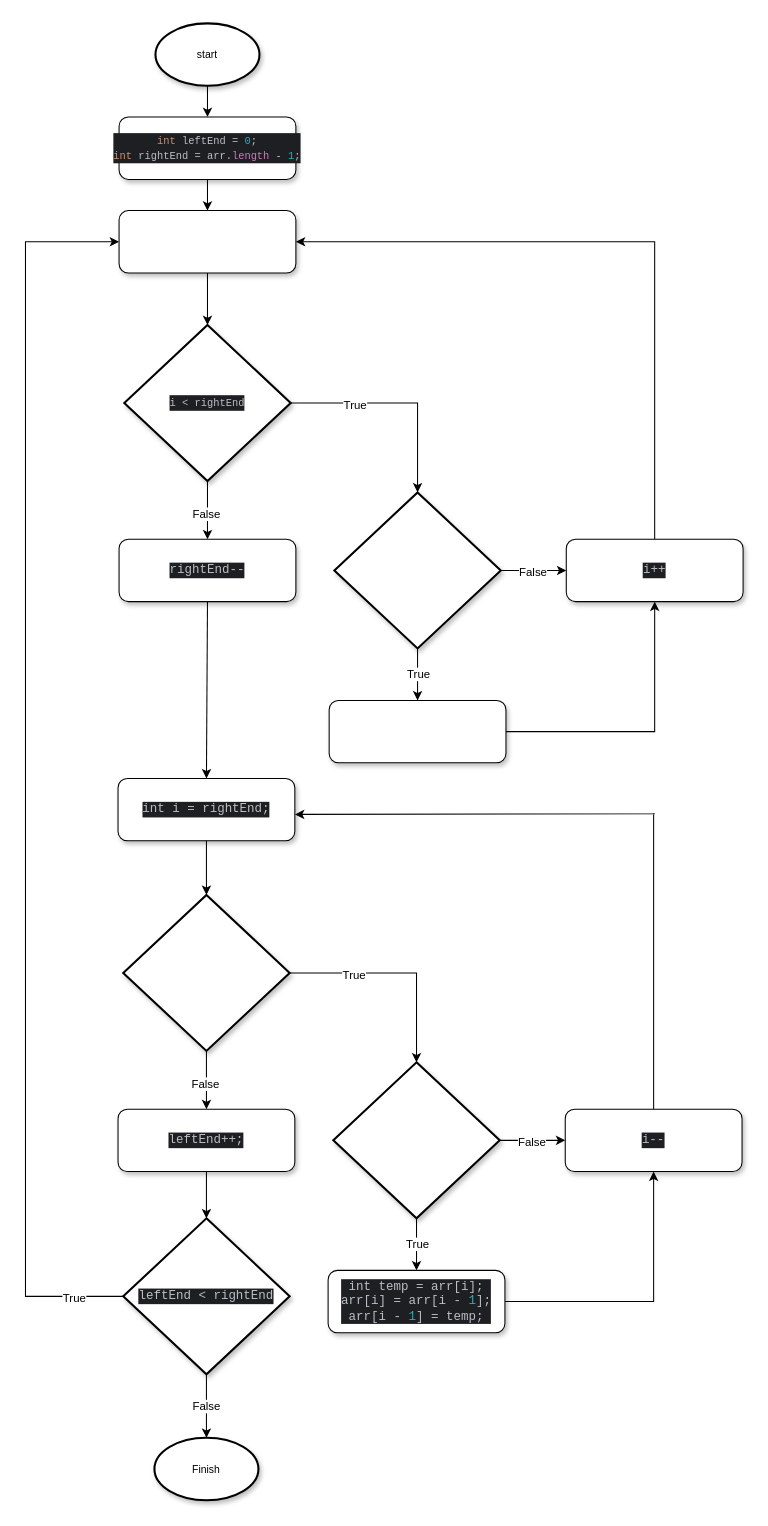
The diagram is 768 pixels wide and 1526 high, and some of its shapes have lost their labels. Each missing label, with the centre of its shape:
"arr[i] < arr[i - 1]" belongs at (x=417, y=1141).
"arr[i] > arr[i + 1]" belongs at (x=418, y=571).
"i > leftEnd;" belongs at (x=207, y=974).
"int i = leftEnd" belongs at (x=208, y=242).
"int temp = arr[i]; arr[i] = arr[i + 1 ]; arr[i + 1 ] = temp;" belongs at (x=418, y=732).
